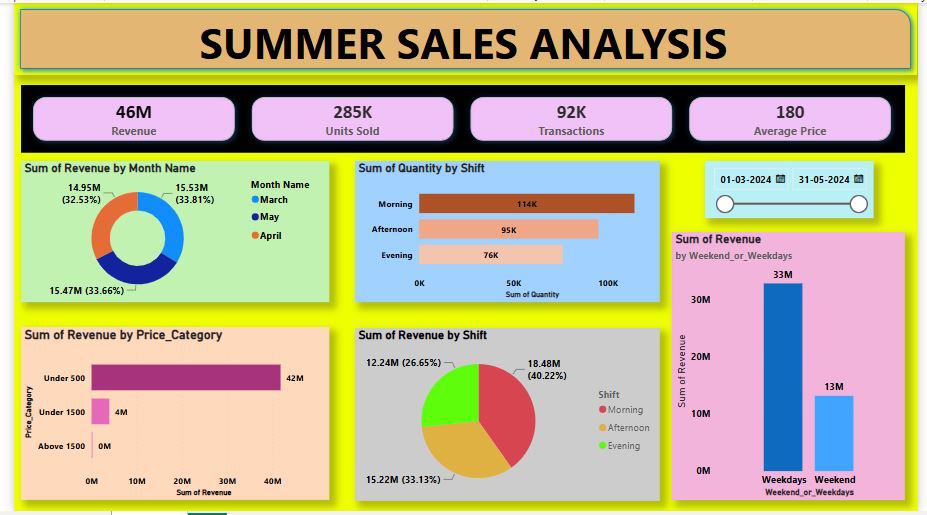

The page's visual inventory and layout, read from the dashboard file:
{"tool":"powerbi","page":{"name":"Page 1","canvas":[1280,720],"ordinal":0},"visuals":[{"type":"shape","box":[0,0,1279.8,102],"z":0},{"type":"pieChart","fields":{"Category":["summer_data.Shift"],"Y":["Sum(summer_data.Revenue)"]},"box":[483.8,460.8,432,244.8],"z":1000},{"type":"columnChart","fields":{"Category":["summer_data.Weekend_or_Weekdays"],"Y":["Sum(summer_data.Revenue)"]},"box":[932.6,324.6,330.2,379.8],"z":3000},{"type":"clusteredBarChart","fields":{"Category":["summer_data.Price_Category"],"Y":["Sum(summer_data.Revenue)"]},"box":[9.9,459.2,436.5,245.2],"z":4000},{"type":"barChart","fields":{"Category":["summer_data.Shift"],"Y":["Sum(summer_data.Quantity)"]},"box":[483.8,224.6,432,200.2],"z":5000},{"type":"slicer","fields":{"Values":["summer_data.Date"]},"box":[979.2,224.6,239,80.6],"z":6000},{"type":"cardVisual","fields":{"Data":["Sum(summer_data.Revenue)","summer_data.Total Units Sold","summer_data.Total Transactions","summer_data.Average Price"]},"box":[9.9,116.2,1252.9,96.4],"z":7000},{"type":"donutChart","fields":{"Category":["summer_data.Month Name"],"Y":["Sum(summer_data.Revenue)"]},"box":[9.9,223.9,436.5,199.8],"z":7002}]}

Visuals, with their boxes in screenshot pixels (x1, y1, x2, y2), scaled from the page's 1280x720 canvas onto the 927x515 screenshot:
shape: crop(0, 0, 926, 73)
pieChart - summer_data.Shift x Sum(summer_data.Revenue): crop(350, 330, 663, 505)
columnChart - summer_data.Weekend_or_Weekdays x Sum(summer_data.Revenue): crop(675, 232, 915, 504)
clusteredBarChart - summer_data.Price_Category x Sum(summer_data.Revenue): crop(7, 328, 323, 504)
barChart - summer_data.Shift x Sum(summer_data.Quantity): crop(350, 161, 663, 304)
slicer - summer_data.Date: crop(709, 161, 882, 218)
cardVisual - Sum(summer_data.Revenue) x summer_data.Total Units Sold: crop(7, 83, 915, 152)
donutChart - summer_data.Month Name x Sum(summer_data.Revenue): crop(7, 160, 323, 303)
